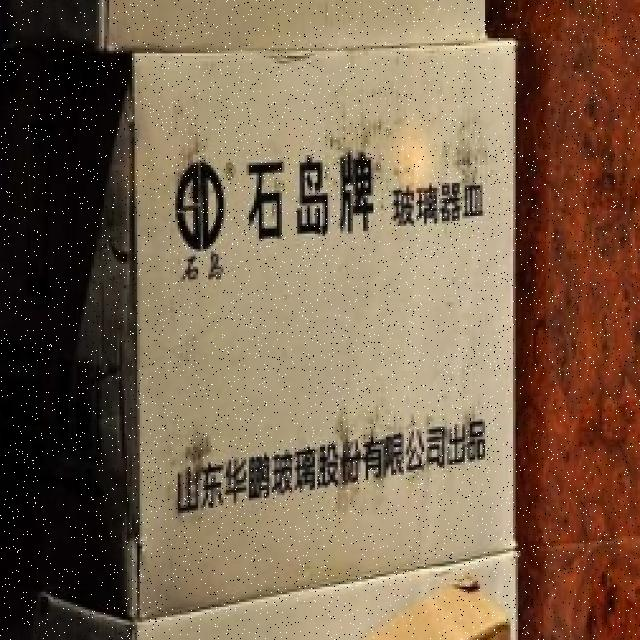box: (0, 46, 518, 566), (26, 541, 528, 640), (0, 0, 490, 51)
